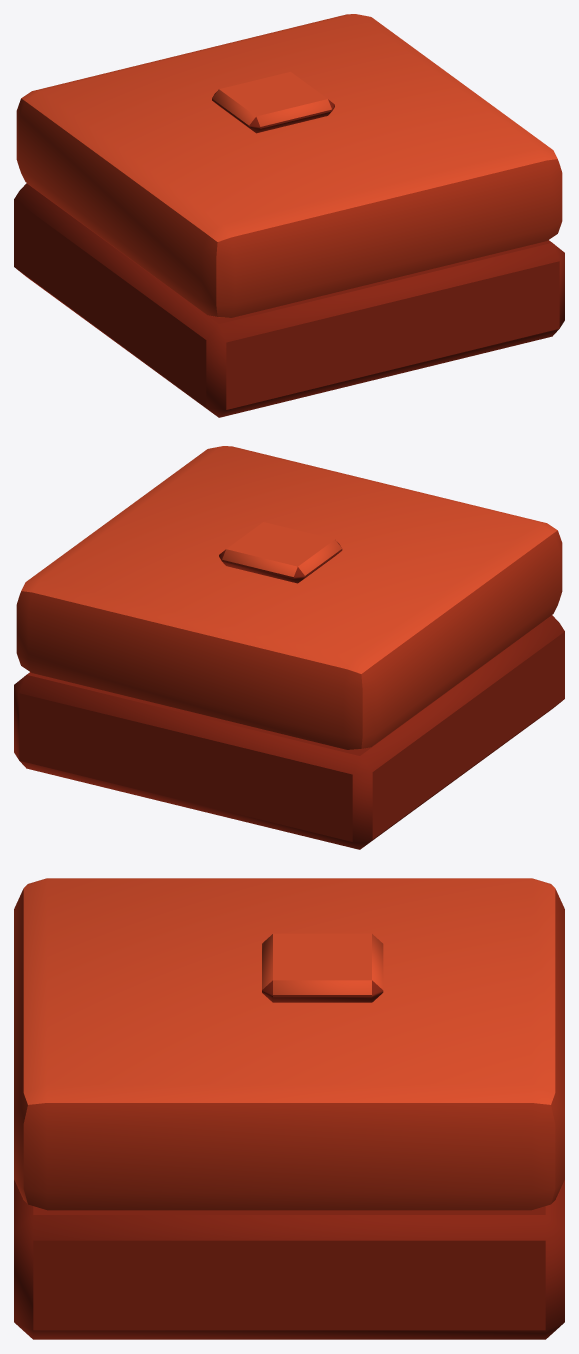
The model's file is cliff_block_low.glb.
3 renders of one model, top to bottom at view 1: azimuth 30°, elevation 25°; view 2: azimuth 150°, elevation 25°; view 3: azimuth 270°, elevation 25°, orthographic. The views are drawn at different scales.
Parts seen in each view (by area): view 1: cliff_block_low; view 2: cliff_block_low; view 3: cliff_block_low.
Boxes of the visible parts, x1,y1,x2,y2 form: cliff_block_low: (14,14,564,417); cliff_block_low: (14,446,564,849); cliff_block_low: (14,878,564,1339).
Size of the model in its own units: 1 by 0.545 by 1.
Materials: 1 (1 with a texture image).
